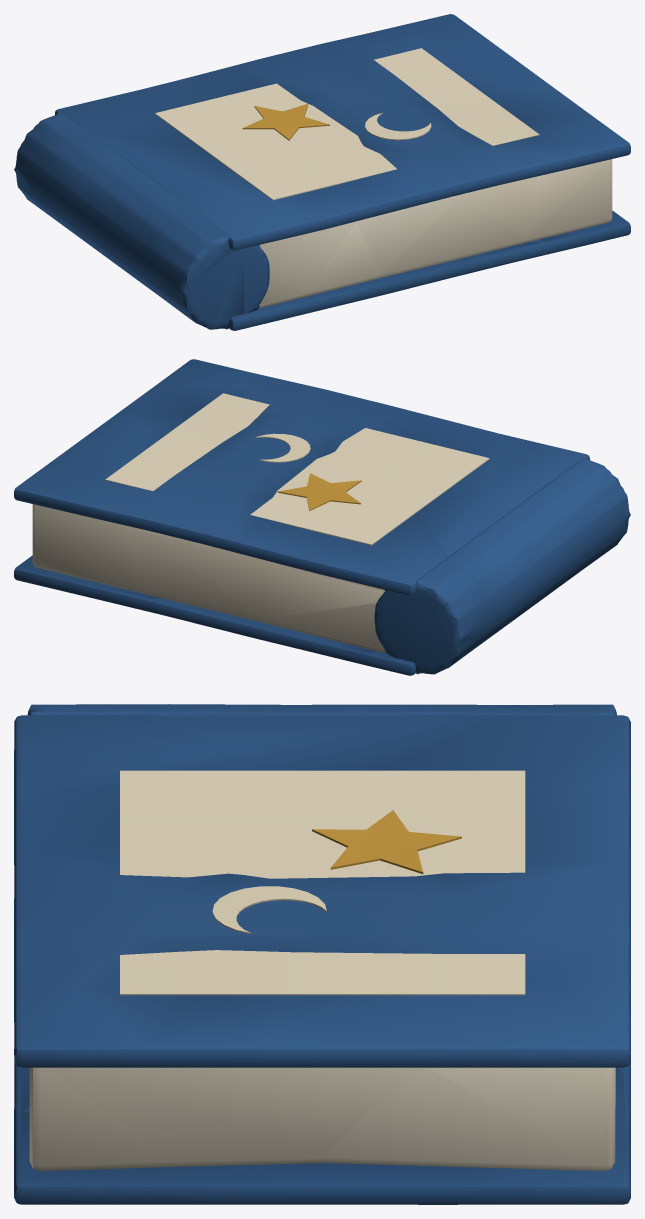
The model's file is den_story_book_lod1.glb.
The picture shows the model from 3 angles, top to bottom: view 1: azimuth 30°, elevation 25°; view 2: azimuth 150°, elevation 25°; view 3: azimuth 270°, elevation 25°; orthographic projection. The views are drawn at different scales.
Parts seen in each view (by area): view 1: den_story_book.001; view 2: den_story_book.001; view 3: den_story_book.001.
Boxes of the visible parts, x1,y1,x2,y2 form: den_story_book.001: [14, 14, 630, 330]; den_story_book.001: [14, 359, 630, 675]; den_story_book.001: [14, 704, 630, 1204].
Size of the model in its own units: 20.01 by 4.1 by 14.01.
